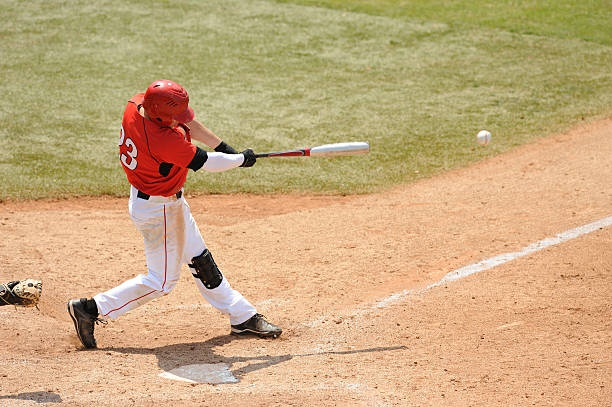bita: (246, 142, 371, 167)
